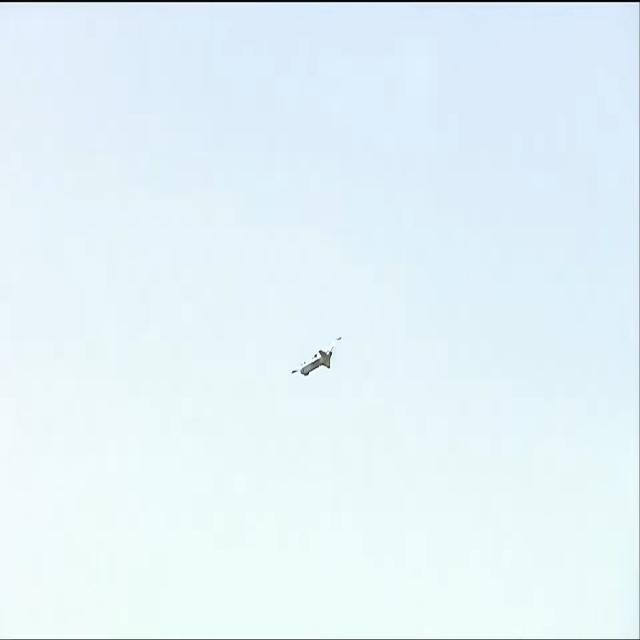iha: (290, 336, 344, 380)
